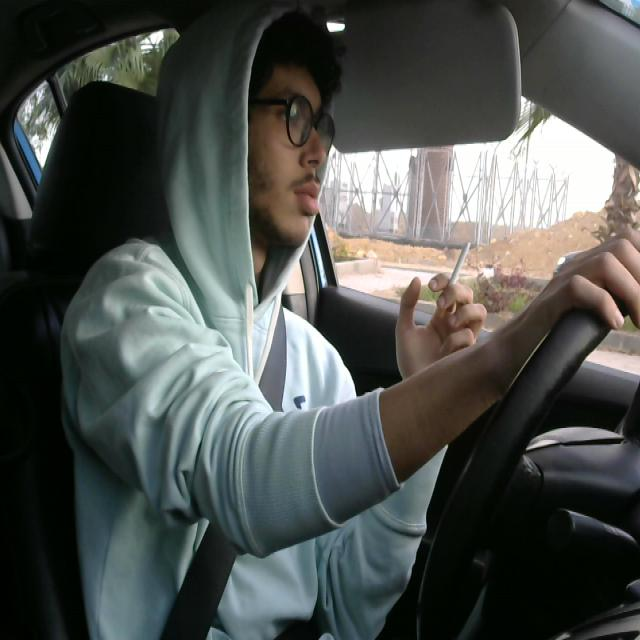smoking: (436, 238, 475, 320)
